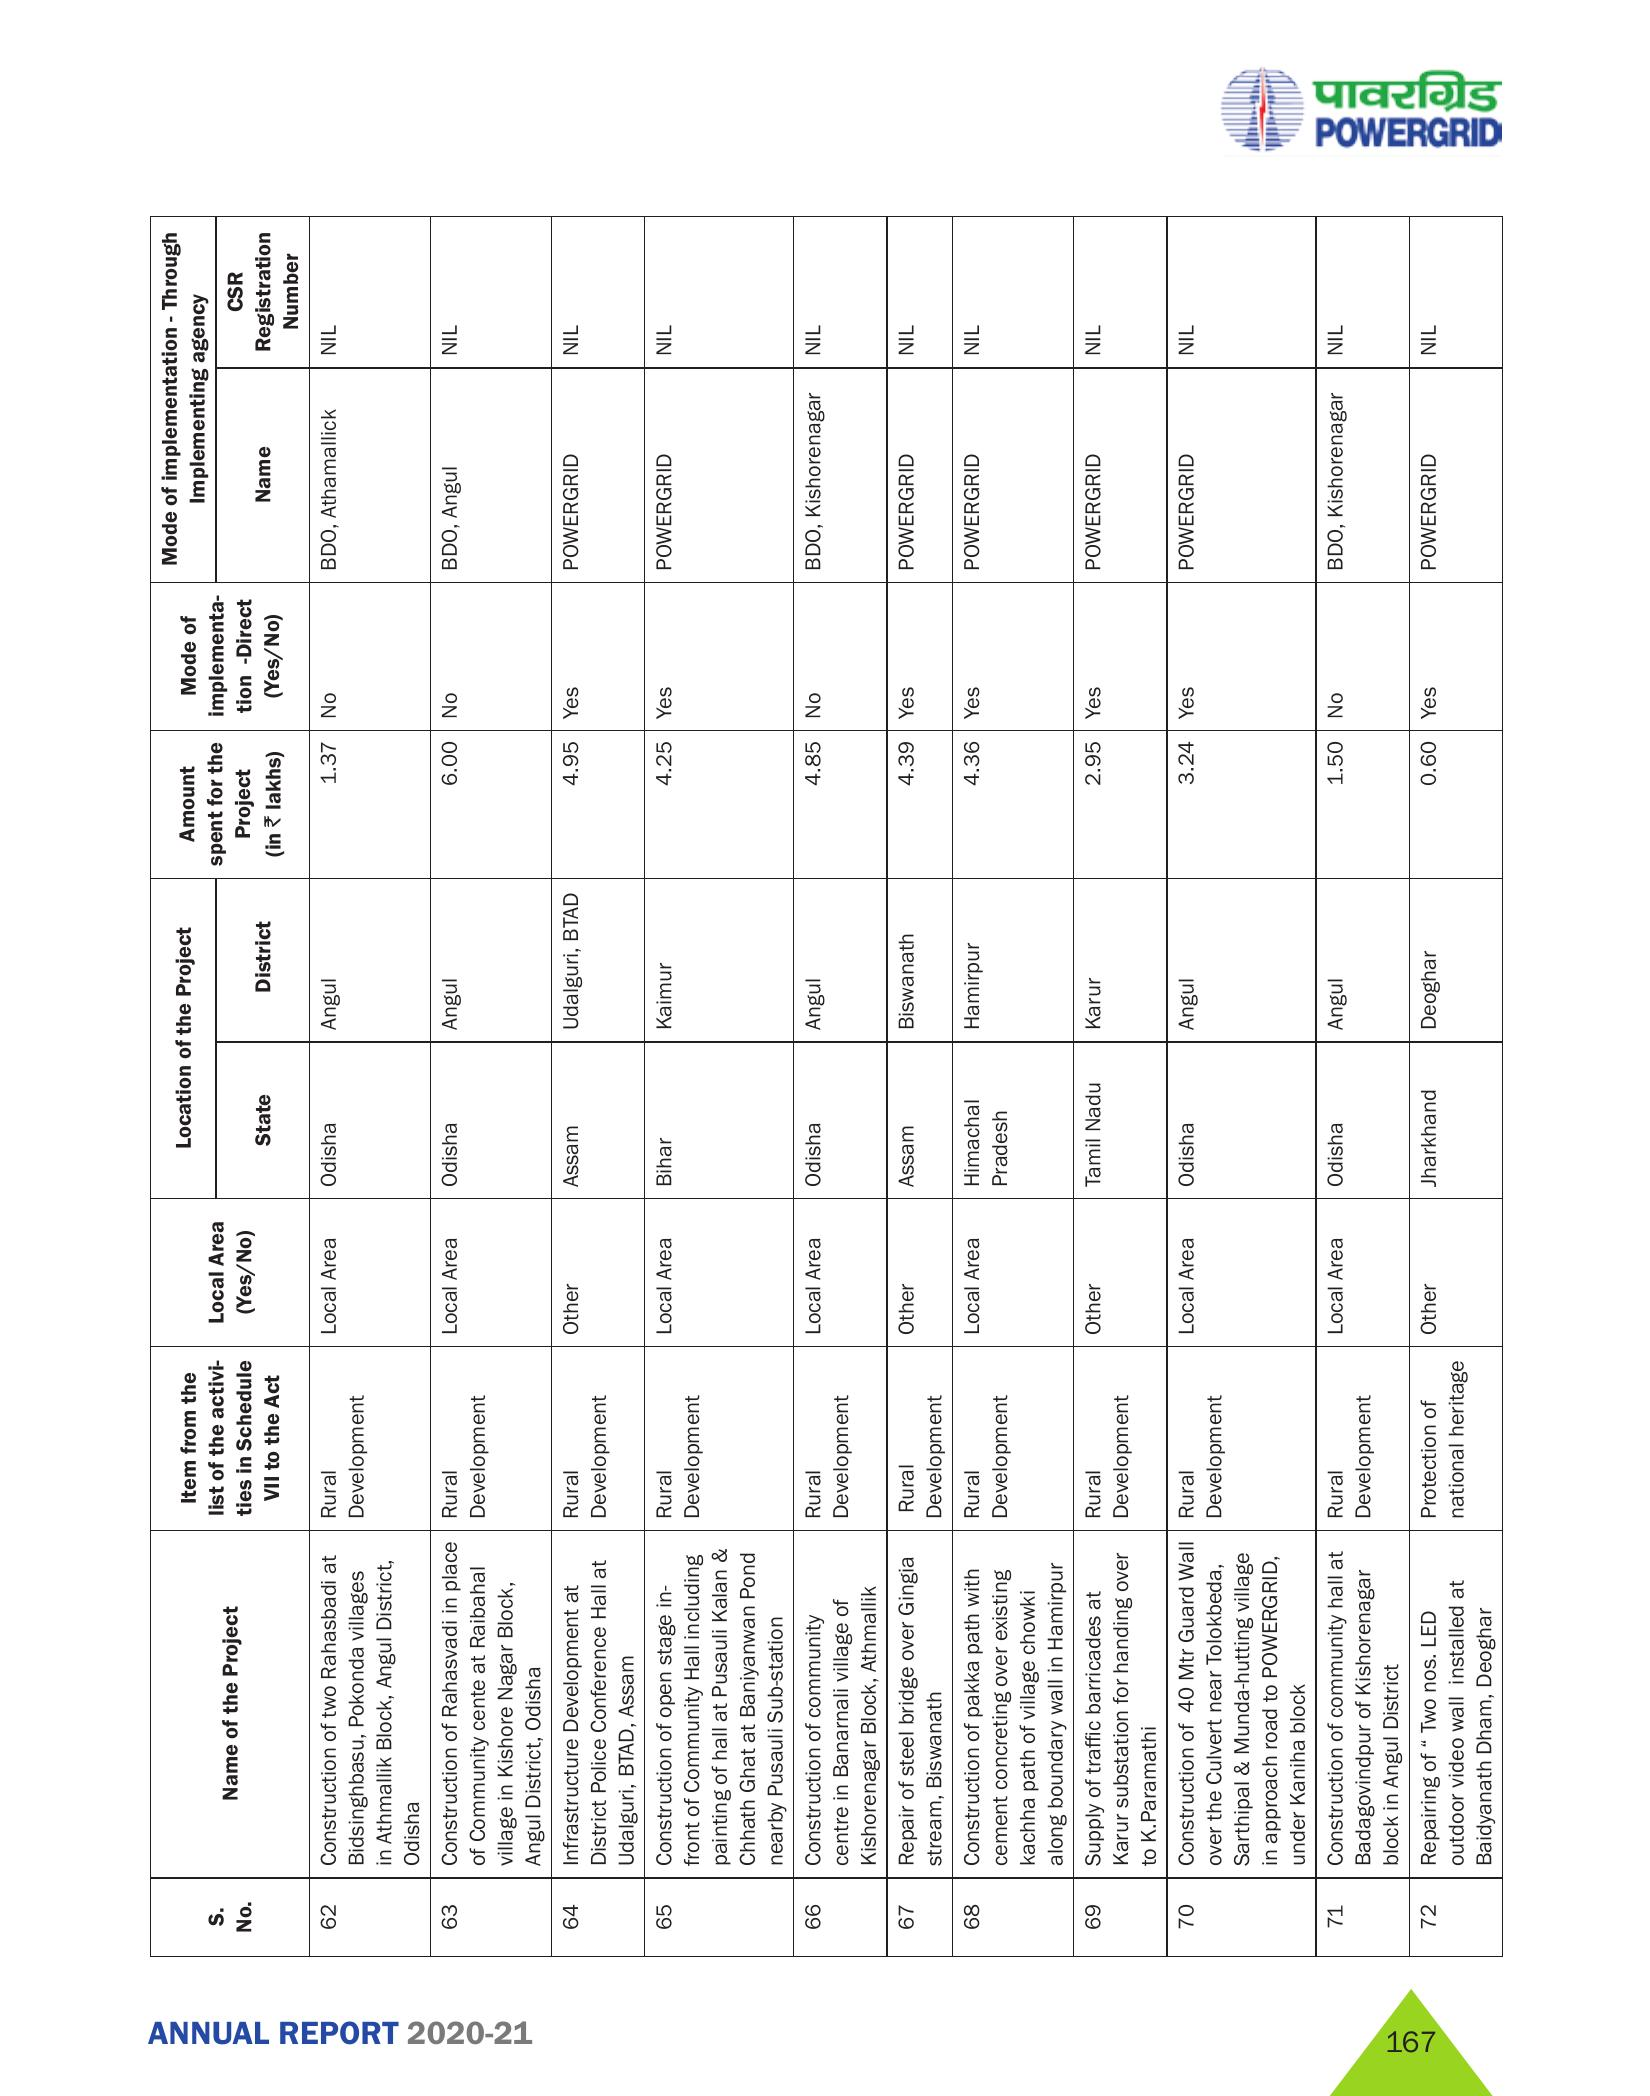Footer: (0, 1965, 1650, 2096)
Header: (0, 0, 1650, 175)
Table: (111, 196, 1548, 1962)
